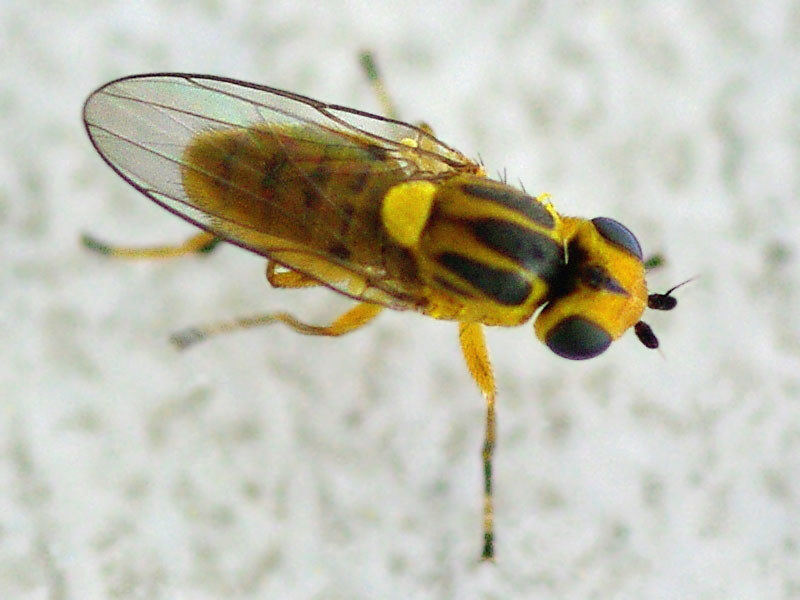Chloropidae: (72, 52, 701, 560)
